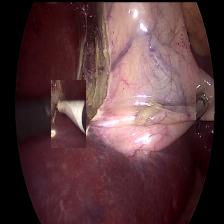Grasper: (195, 84, 213, 132)
Hook: (50, 78, 85, 146)
